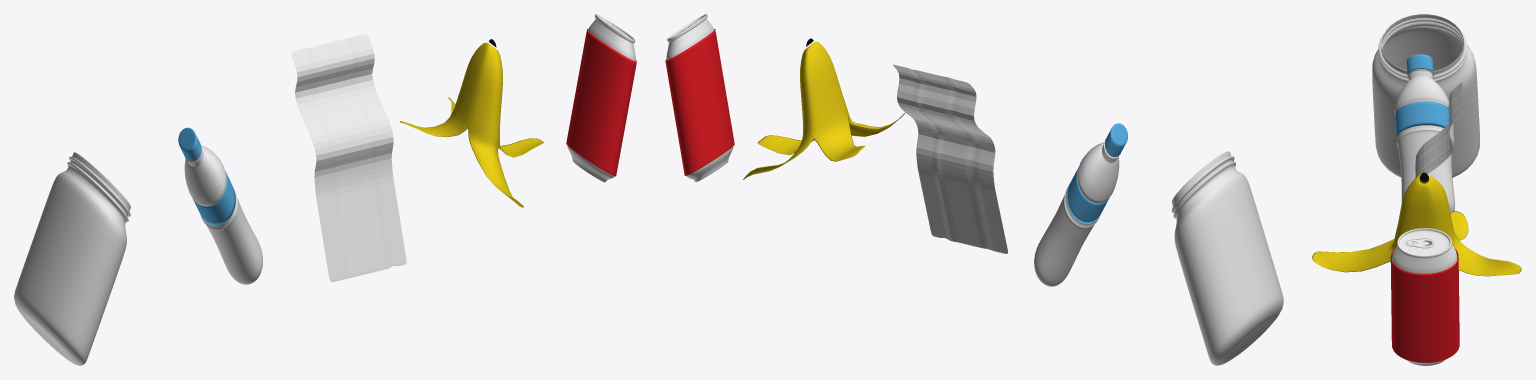
Rendered from lixo.fbx.
3 renders of one model, left to right at view 1: azimuth 30°, elevation 25°; view 2: azimuth 150°, elevation 25°; view 3: azimuth 270°, elevation 25°, orthographic. The views are drawn at different scales.
Visible parts, largest first — view 1: L-Papel; view 2: L-Papel; view 3: L-Papel.
Part boxes in pixels (left/top/right/bottom): L-Papel: left=14, top=14, right=636, bottom=365; L-Papel: left=665, top=14, right=1283, bottom=365; L-Papel: left=1312, top=14, right=1521, bottom=365.
Bounding box in the file's own units: 2090 × 777 × 715.
